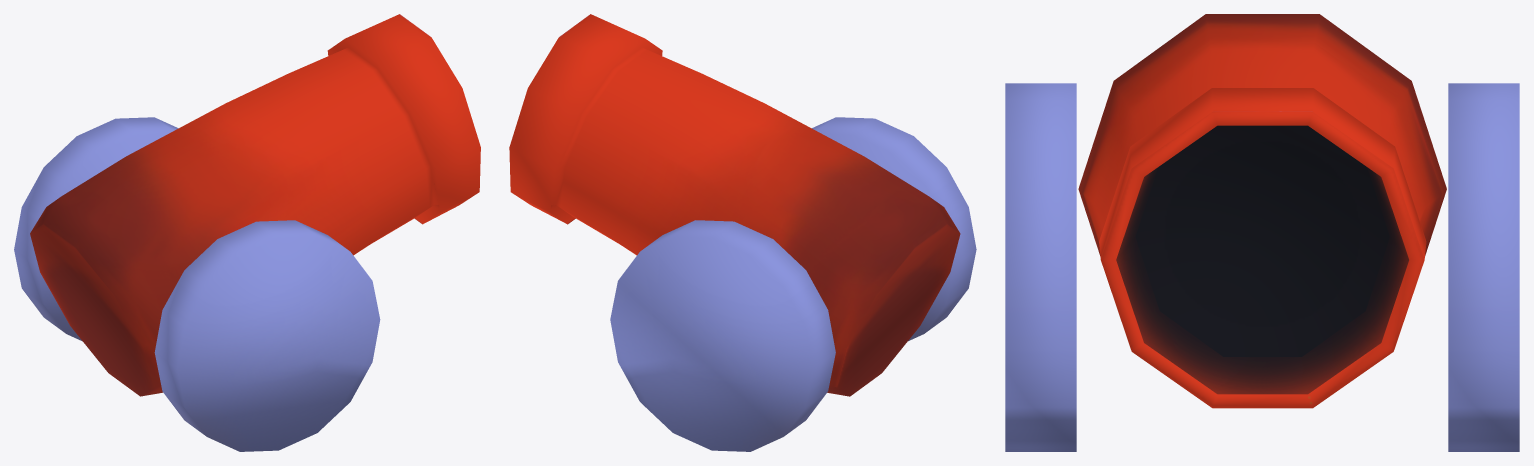
The model's file is Boom.gltf.
3 renders of one model, left to right at view 1: azimuth 30°, elevation 25°; view 2: azimuth 150°, elevation 25°; view 3: azimuth 270°, elevation 25°, orthographic. The views are drawn at different scales.
Visible parts, largest first — view 1: Cylinder, Cylinder.002; view 2: Cylinder, Cylinder.002; view 3: Cylinder, Cylinder.002.
Boxes of the visible parts, x1,y1,x2,y2 form: Cylinder: (30, 14, 480, 396); Cylinder.002: (14, 117, 380, 451); Cylinder: (509, 14, 960, 396); Cylinder.002: (610, 117, 976, 451); Cylinder: (1078, 14, 1446, 408); Cylinder.002: (1005, 83, 1519, 451).
Bounding box in the file's own units: 3.78 × 2.94 × 2.79.
1 material, 1 textured.
